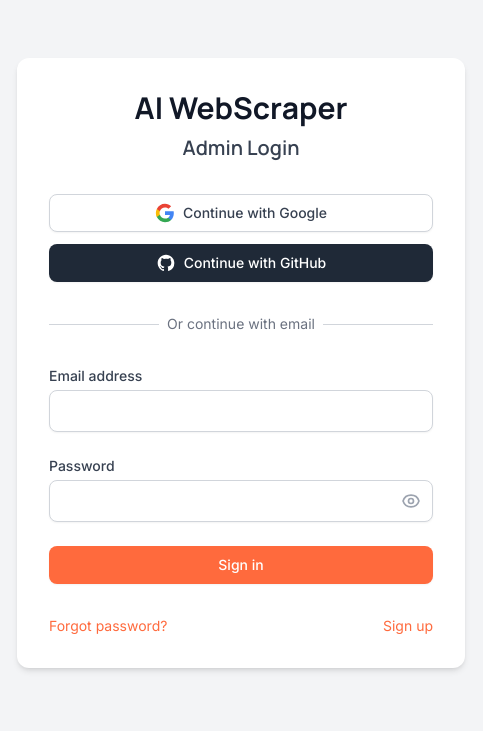
Test case: LoginPage › displays generic error on unexpected exception
Step 1. Type "test@example.com" into the field labelled "Email address" → {"x": 241, "y": 411}, box [49, 390, 433, 432]
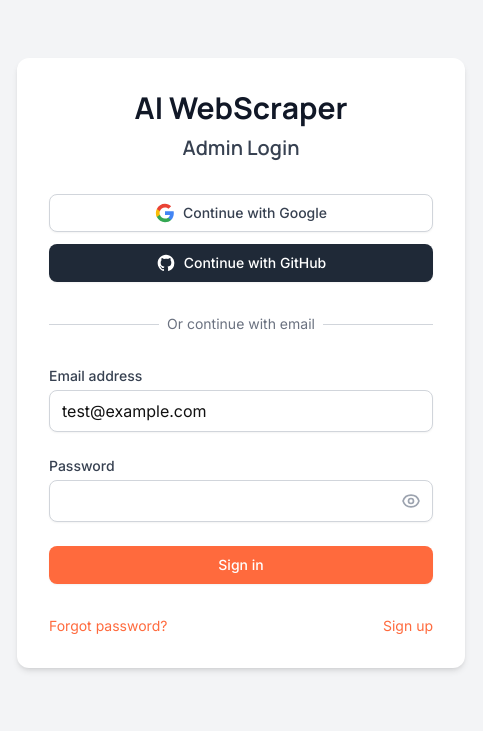
Step 2. Type "password123" into the password field labelled "Password" → {"x": 241, "y": 501}, box [49, 480, 433, 522]
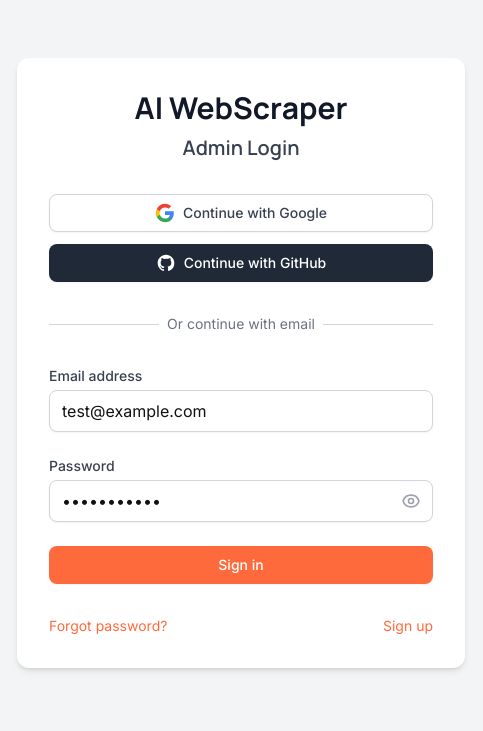
Step 3. Click the button "Sign in" → {"x": 241, "y": 565}, box [49, 546, 433, 584]
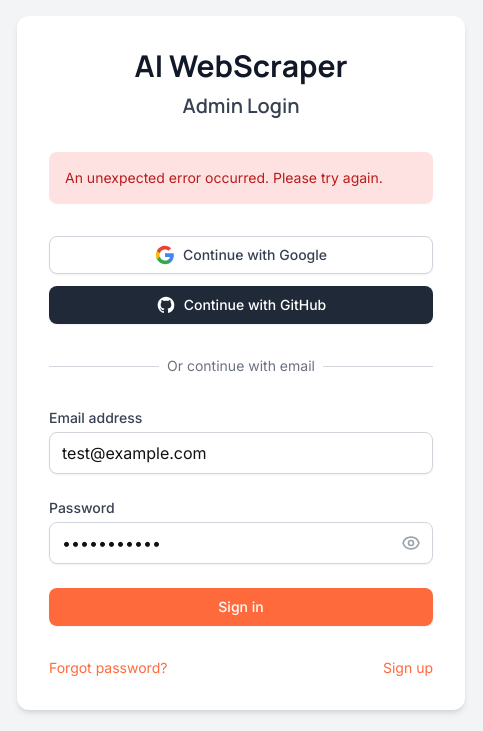
expect the text "An unexpected error occurred. Please try again." is shown: met, box [49, 152, 433, 204]
